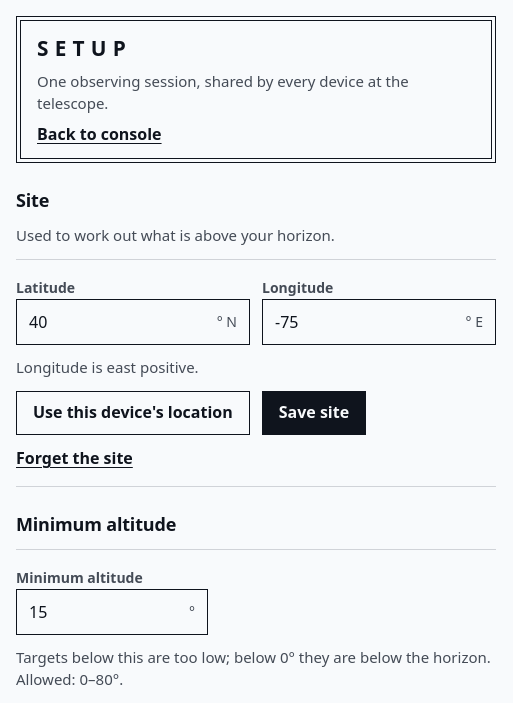
Test: Setup › refuses site 95, 0 and explains both ranges
Replace the text in the field labelled "Latitude" with "95". click: (117,322)
box: [17,300,217,344]
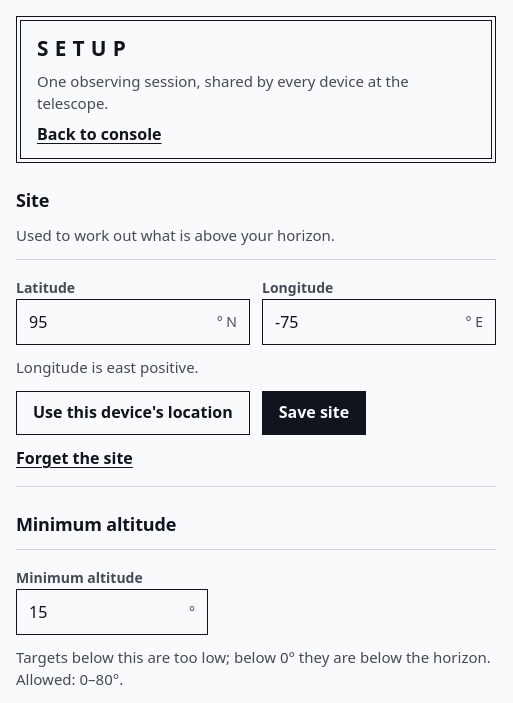
Replace the text in the field labelled "Longitude" with "0". click: (364,322)
box: [263,300,466,344]
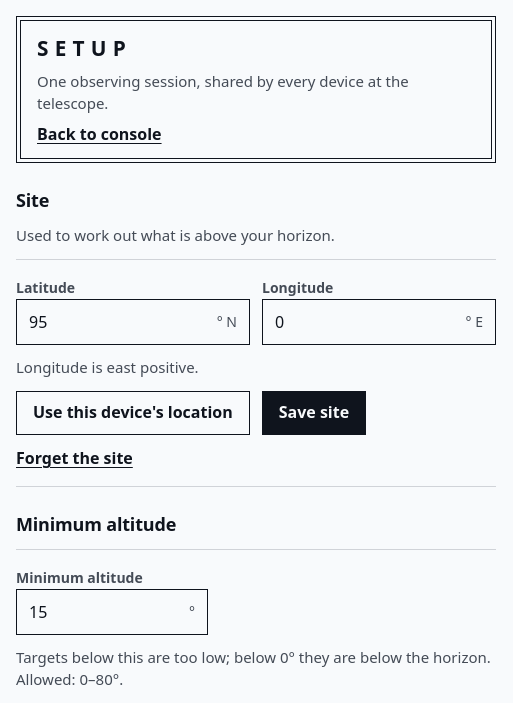
Click the button "Save site". click: (314,413)
box: [262,391,366,435]
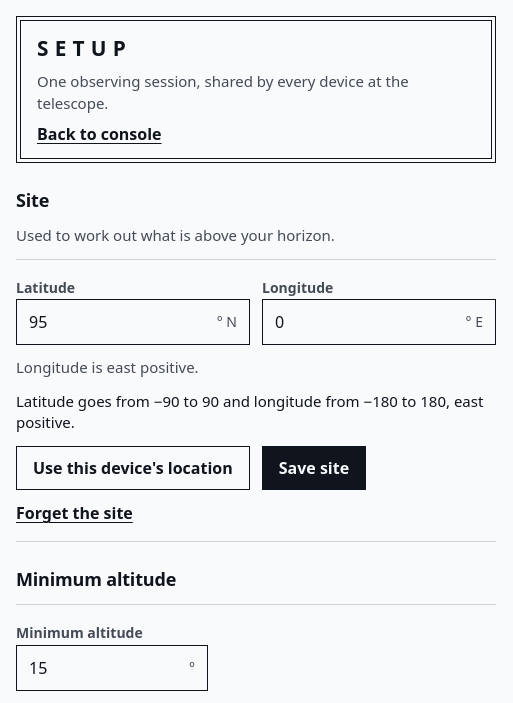
Expected: the message reads "Latitude goes from −90 to 90 and longitude from −180 to 180, east positive.", [16,391,483,432]
